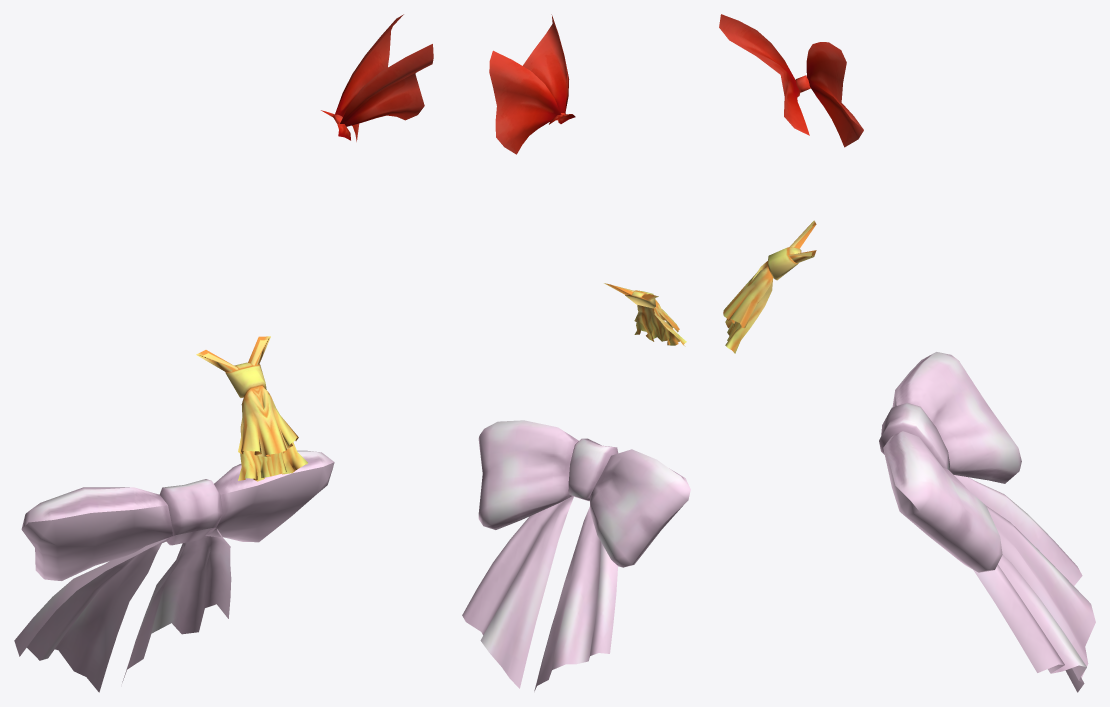
The model's file is details.obj.
3 views of the same model, side by side, from view 1: azimuth 30°, elevation 25°; view 2: azimuth 150°, elevation 25°; view 3: azimuth 270°, elevation 25° (orthographic). The views are drawn at different scales.
Parts seen in each view (by area): view 1: Material23_フランドール_mesh_フランドール.011, Material21_フランドール_mesh_フランドール.013, Material0_フランドール_mesh_フランドール.009; view 2: Material23_フランドール_mesh_フランドール.011, Material0_フランドール_mesh_フランドール.009, Material21_フランドール_mesh_フランドール.013; view 3: Material23_フランドール_mesh_フランドール.011, Material0_フランドール_mesh_フランドール.009, Material21_フランドール_mesh_フランドール.013.
Boxes of the visible parts, x1=… form: Material23_フランドール_mesh_フランドール.011: x1=14, y1=450, x2=334, y2=692; Material21_フランドール_mesh_フランドール.013: x1=196, y1=336, x2=307, y2=481; Material0_フランドール_mesh_フランドール.009: x1=321, y1=14, x2=433, y2=141; Material23_フランドール_mesh_フランドール.011: x1=462, y1=420, x2=690, y2=691; Material0_フランドール_mesh_フランドール.009: x1=489, y1=14, x2=575, y2=154; Material21_フランドール_mesh_フランドール.013: x1=604, y1=283, x2=686, y2=346; Material23_フランドール_mesh_フランドール.011: x1=879, y1=352, x2=1095, y2=692; Material0_フランドール_mesh_フランドール.009: x1=719, y1=14, x2=863, y2=147; Material21_フランドール_mesh_フランドール.013: x1=723, y1=220, x2=816, y2=353.
Bounding box in the file's own units: 0.4161 × 0.9157 × 0.4199.
